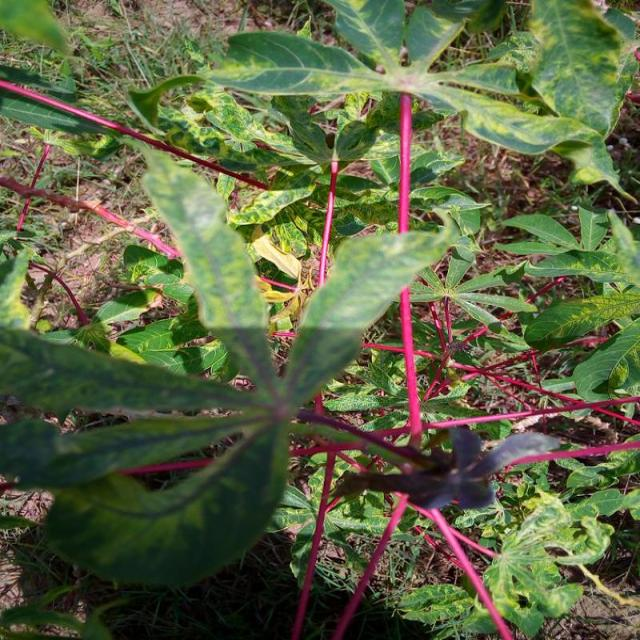cassava leaf: (4, 143, 457, 589)
